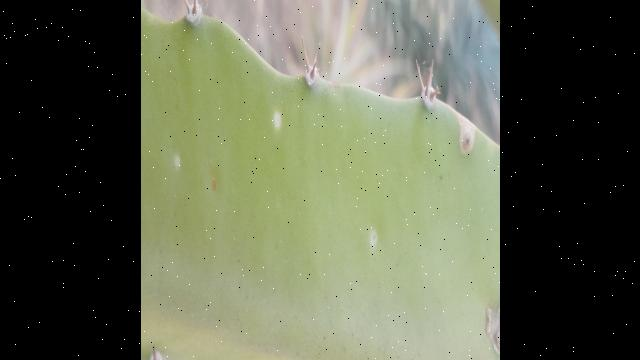stemcanker: (357, 221, 387, 258), (201, 162, 224, 198), (167, 142, 186, 175), (268, 106, 288, 137)
